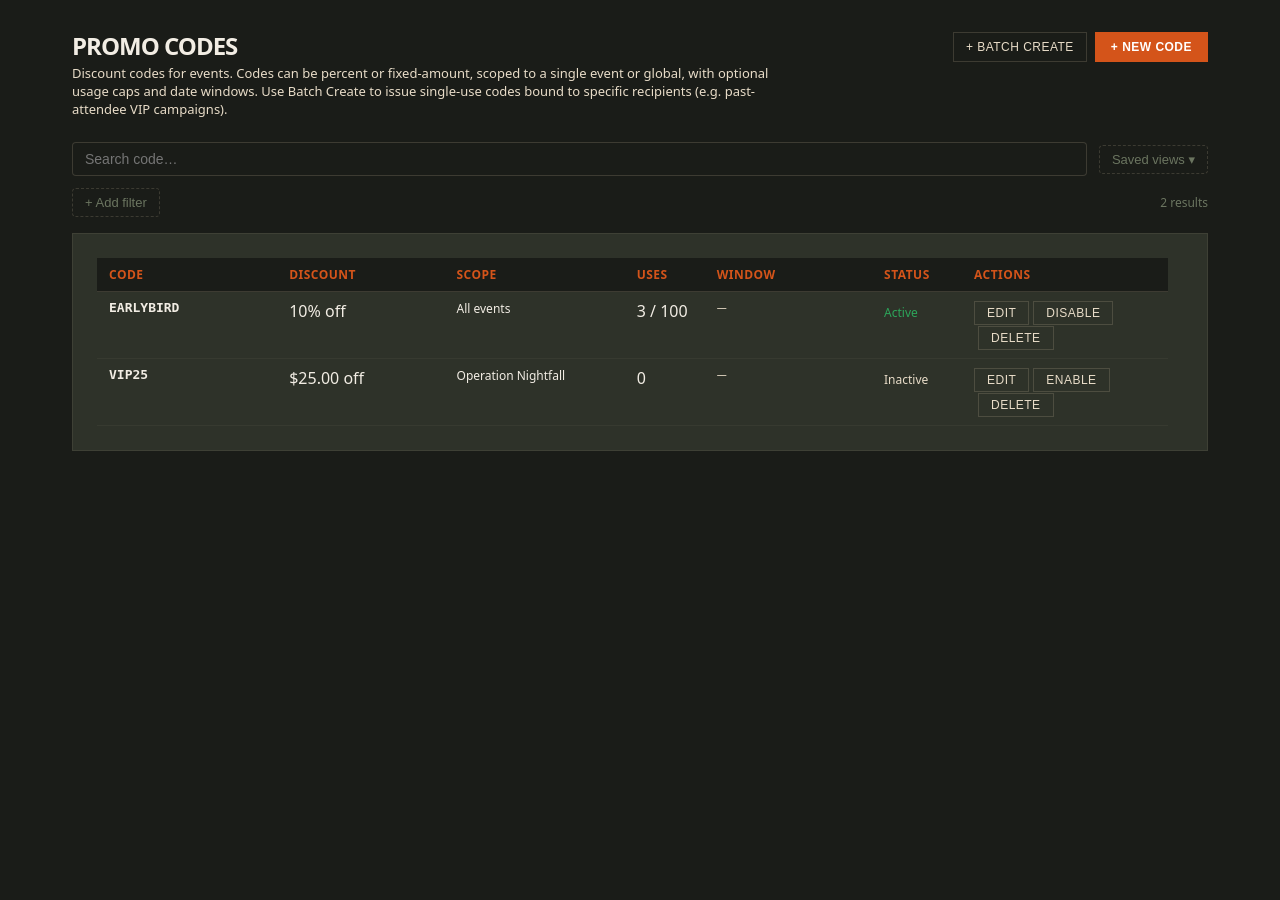
Test: AdminPromoCodes — shell (no virtualization needed) › opens the new-code form modal
Click the button "+ New Code" at (1151, 47), box [1095,32,1208,62]
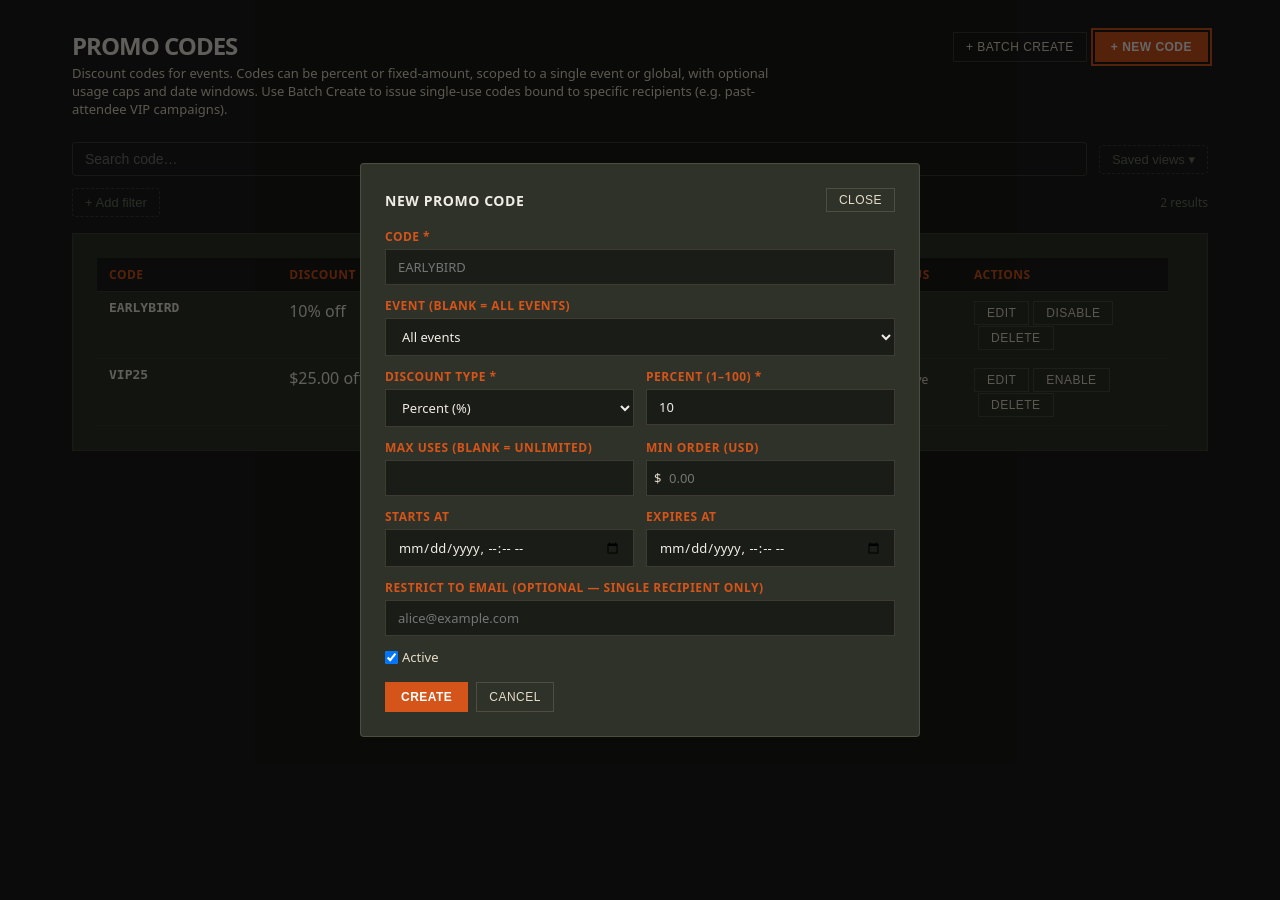
Expected: the heading "New promo code" is shown, [385,190,524,210]
